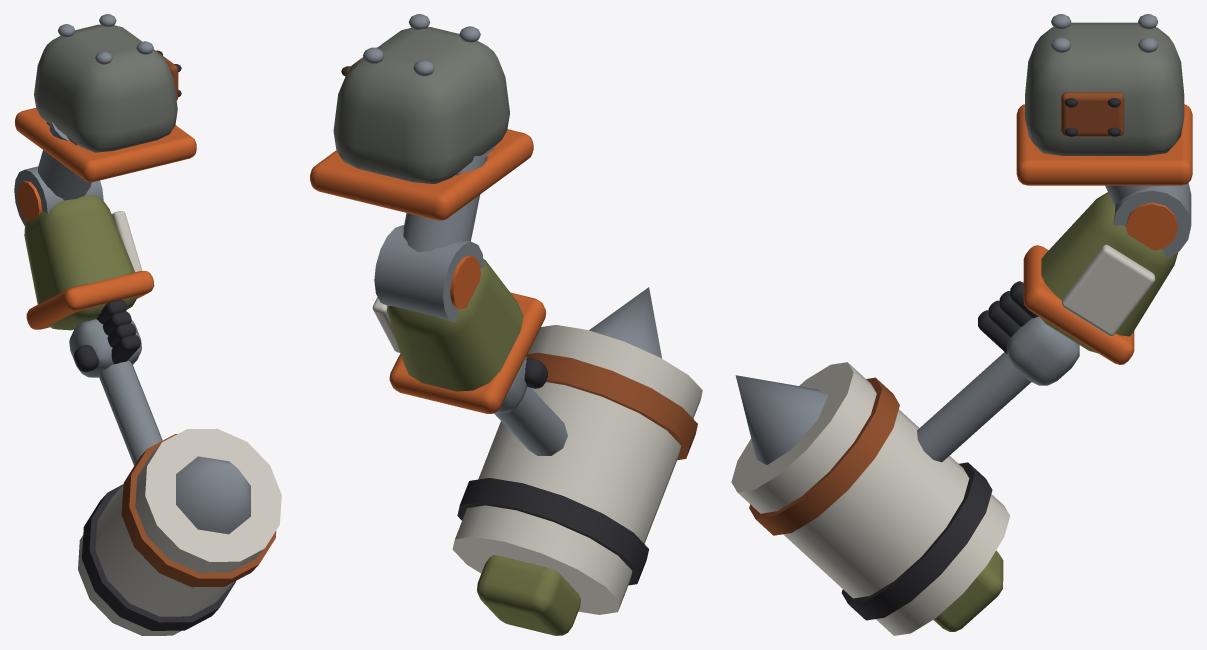
File: ar_maul.glb
3 renders of one model, left to right at view 1: azimuth 30°, elevation 25°; view 2: azimuth 150°, elevation 25°; view 3: azimuth 270°, elevation 25°, orthographic. The views are drawn at different scales.
Visible parts, largest first — view 1: ar_maul; view 2: ar_maul; view 3: ar_maul.
Boxes of the visible parts, <box> form: ar_maul: <box>14,14,281,635</box>; ar_maul: <box>310,14,702,635</box>; ar_maul: <box>731,14,1192,635</box>.
Bounding box in the file's own units: 0.2268 × 0.7364 × 0.5016.
